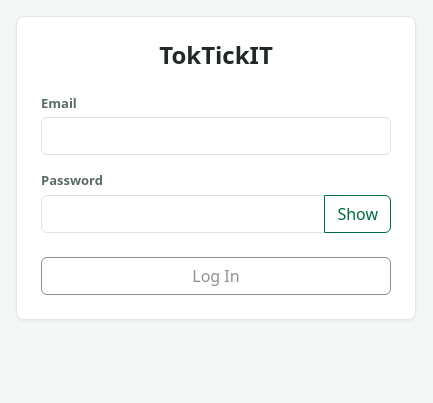
Test: Login (UI-01) › shows a generic failure banner on invalid credentials
This screenshot has width=433, height=403.
Type "jennifer.anderson@toktickit.test" into the field labelled "Email" at x=216, y=136, box [41, 117, 391, 155]
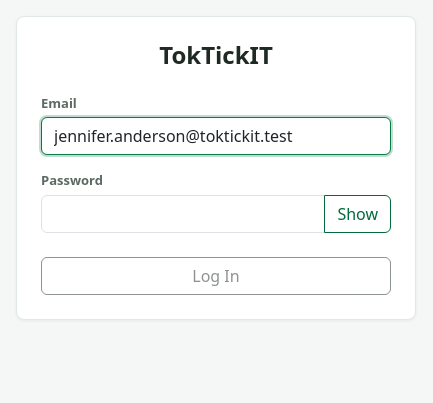
Type "wrong-password" into the password field labelled "Password" at x=183, y=214, box [41, 195, 325, 233]
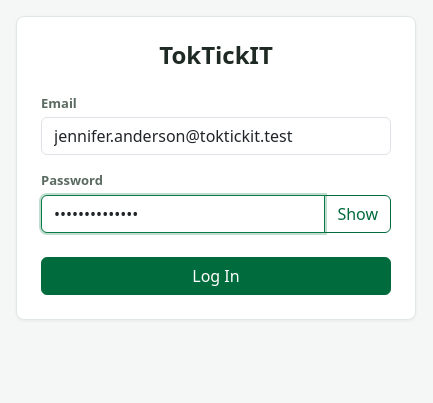
Click the button "Log In" at x=216, y=276, box [41, 257, 391, 295]
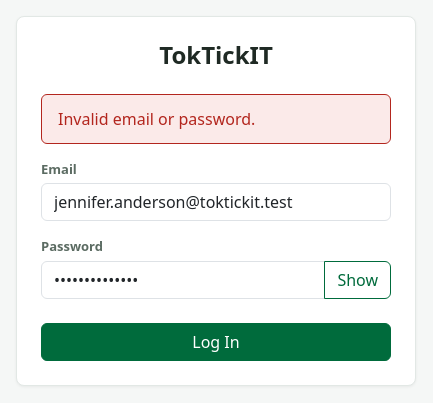
Expected: the message "Invalid email or password." is shown, [41, 94, 391, 144]
